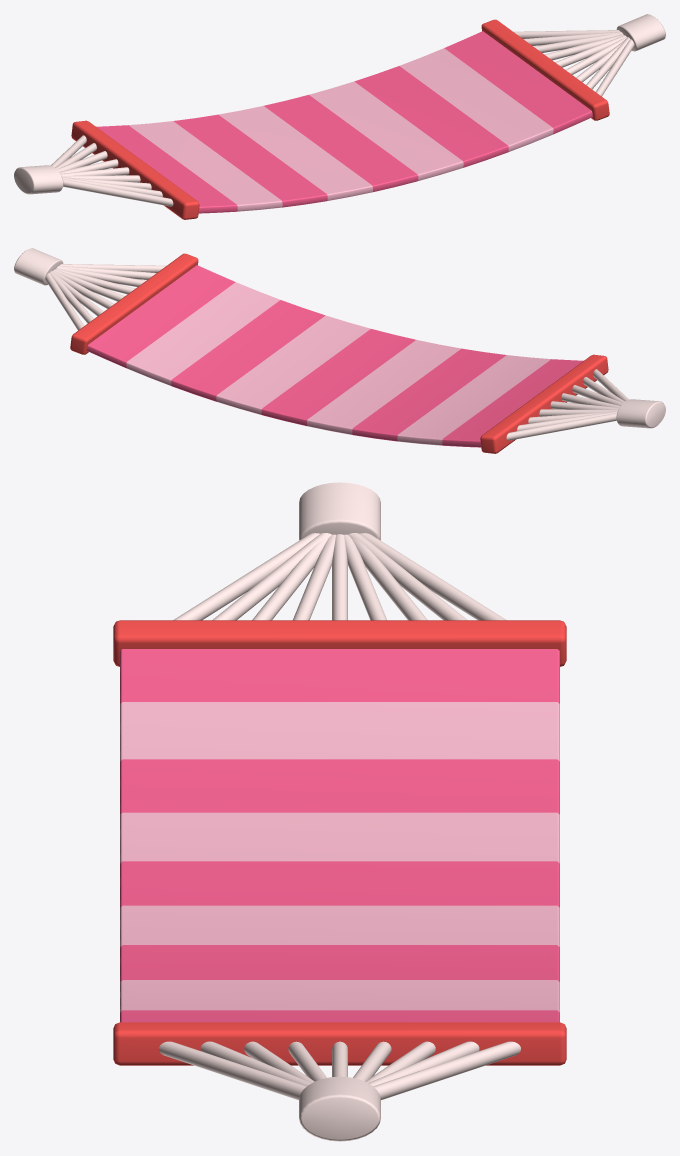
File: Town_14_Hammock_1.glb
3 views of the same model, one above another, from view 1: azimuth 30°, elevation 25°; view 2: azimuth 150°, elevation 25°; view 3: azimuth 270°, elevation 25° (orthographic). The views are drawn at different scales.
Parts seen in each view (by area): view 1: Town_14_Hammock_1; view 2: Town_14_Hammock_1; view 3: Town_14_Hammock_1.
Boxes of the visible parts, <box> form: Town_14_Hammock_1: <box>14,14,665,219</box>; Town_14_Hammock_1: <box>14,248,665,453</box>; Town_14_Hammock_1: <box>113,482,566,1141</box>.
Size of the model in its own units: 3.9 by 0.3205 by 1.21.
1 material, 1 textured.
